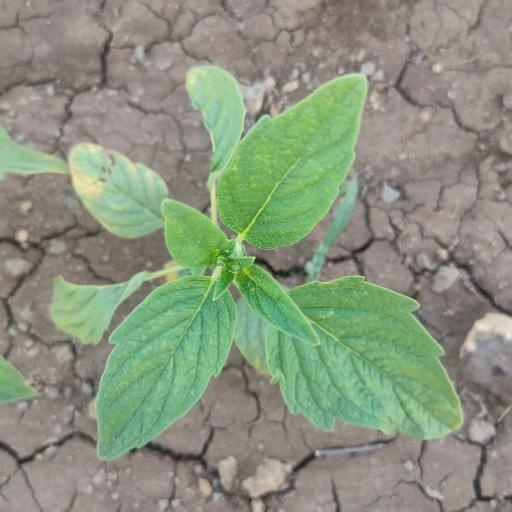crop: (62, 84, 465, 455)
